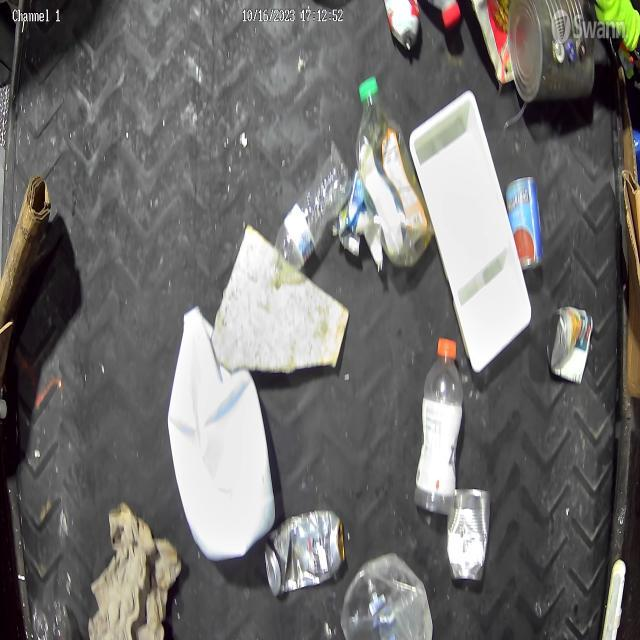can: (266, 510, 344, 600), (549, 298, 602, 385)
milk_jug: (168, 305, 276, 557)
plastic_bottle: (354, 72, 434, 280), (264, 142, 352, 289), (412, 336, 472, 516)
